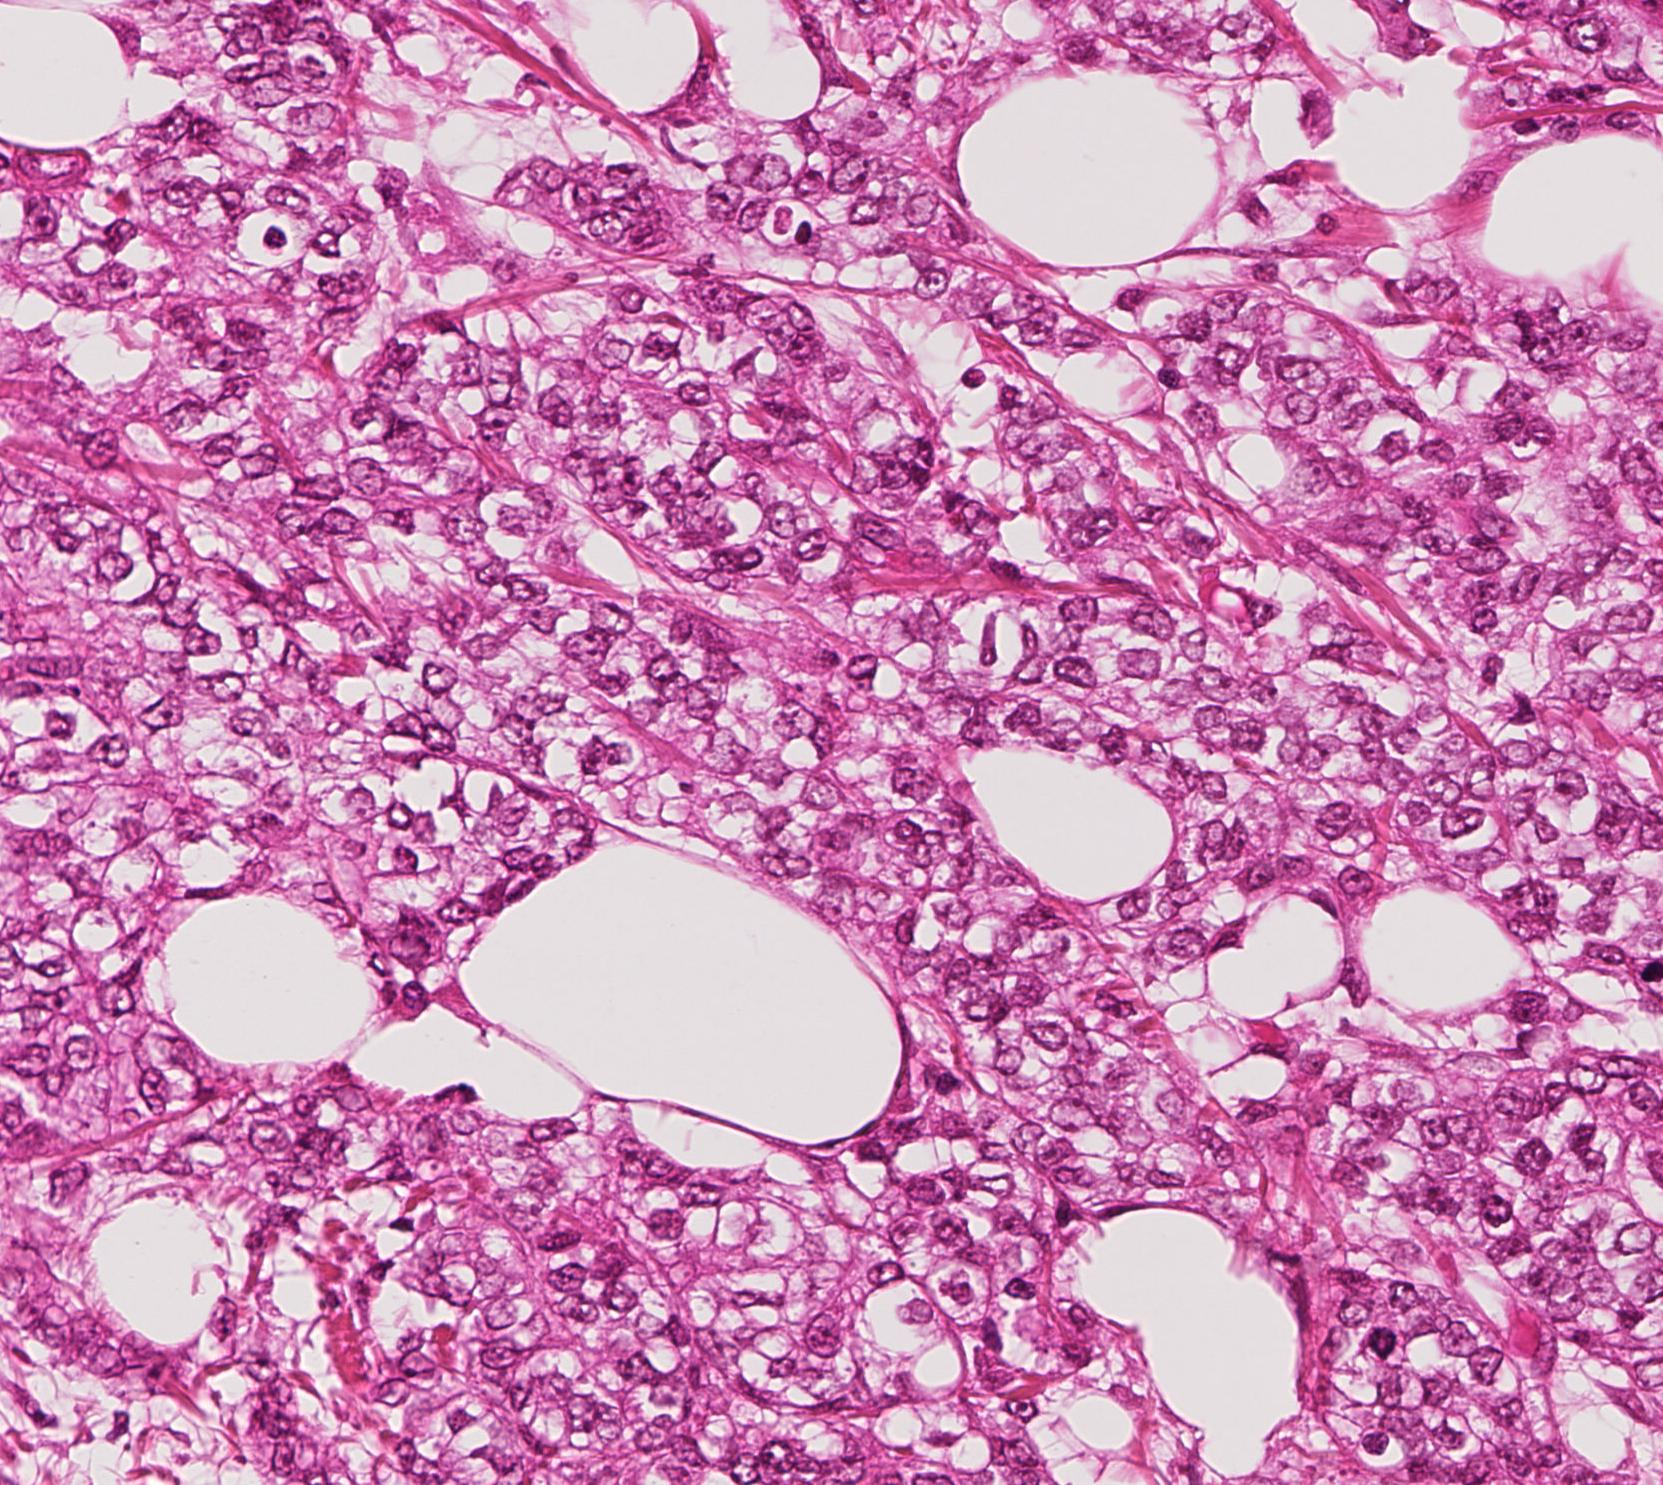mitosis: (1348, 1312, 1408, 1372)
